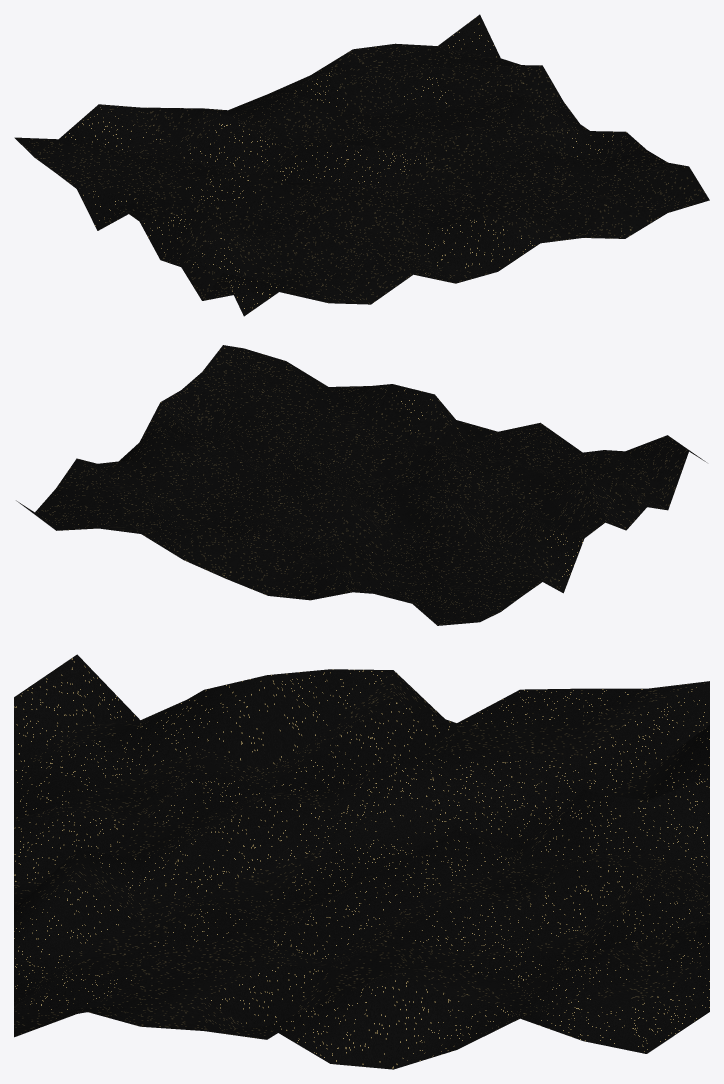
File: background_rough.obj
3 renders of one model, top to bottom at view 1: azimuth 30°, elevation 25°; view 2: azimuth 150°, elevation 25°; view 3: azimuth 270°, elevation 25°, orthographic. The views are drawn at different scales.
Size of the model in its own units: 2.2 by 0.2575 by 1.88.
Materials: 1 (1 with a texture image).
